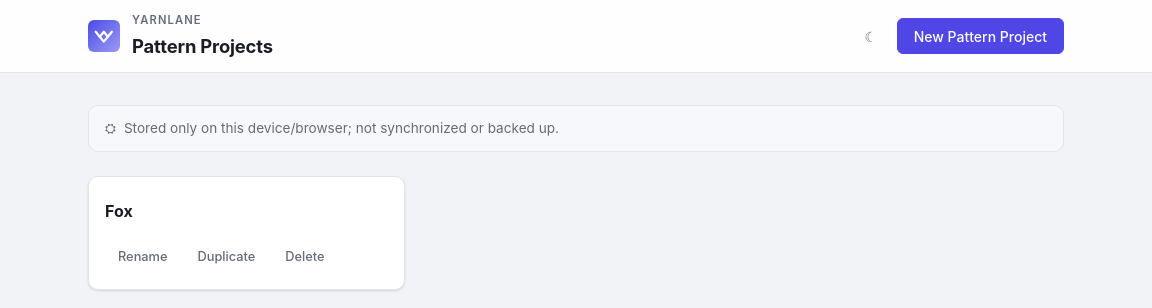
Test: Project library management › renames a local Pattern Project
The image size is (1152, 308).
Click the button with aria-label "rename fox" at (143,257), box [105,241,180,273]
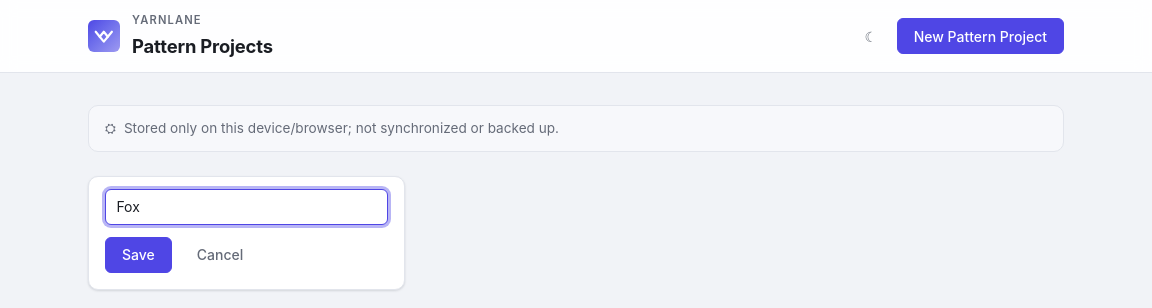
Replace the text in the field named "new name for fox" with "Arctic fox" at (247,207), box [105,189,388,225]
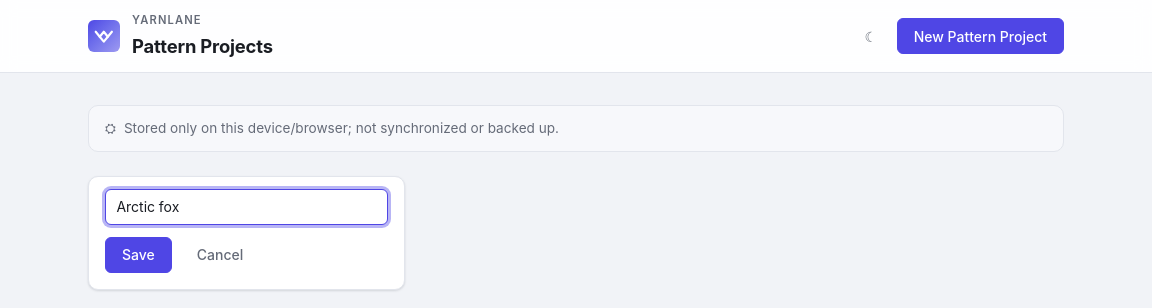
Click the button "Save" at (138,255), box [105,237,172,273]
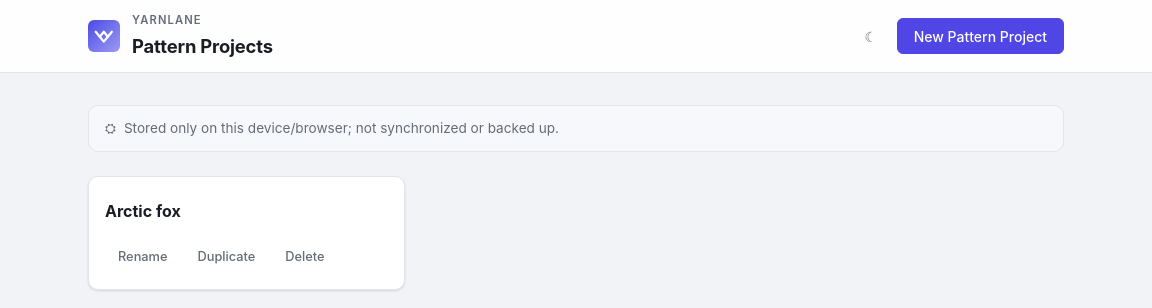
Expected: the button "Arctic fox" is shown, [105,189,388,233]
